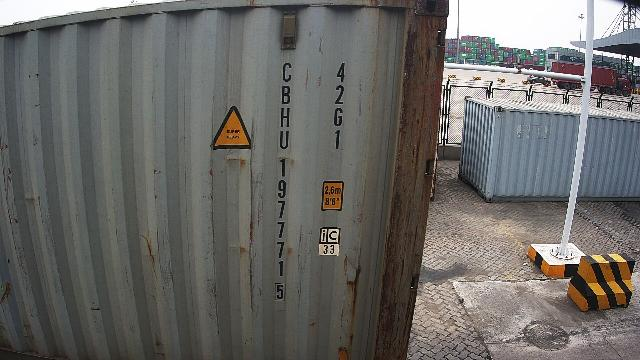1: (280, 158, 286, 176), (278, 260, 284, 276)
5: (274, 284, 286, 300)
7: (276, 200, 286, 220), (276, 221, 286, 239), (277, 241, 285, 258)
9: (278, 180, 286, 198)
B: (282, 85, 290, 105)
C: (282, 62, 292, 82)
H: (280, 107, 290, 127)
U: (279, 130, 289, 150)
